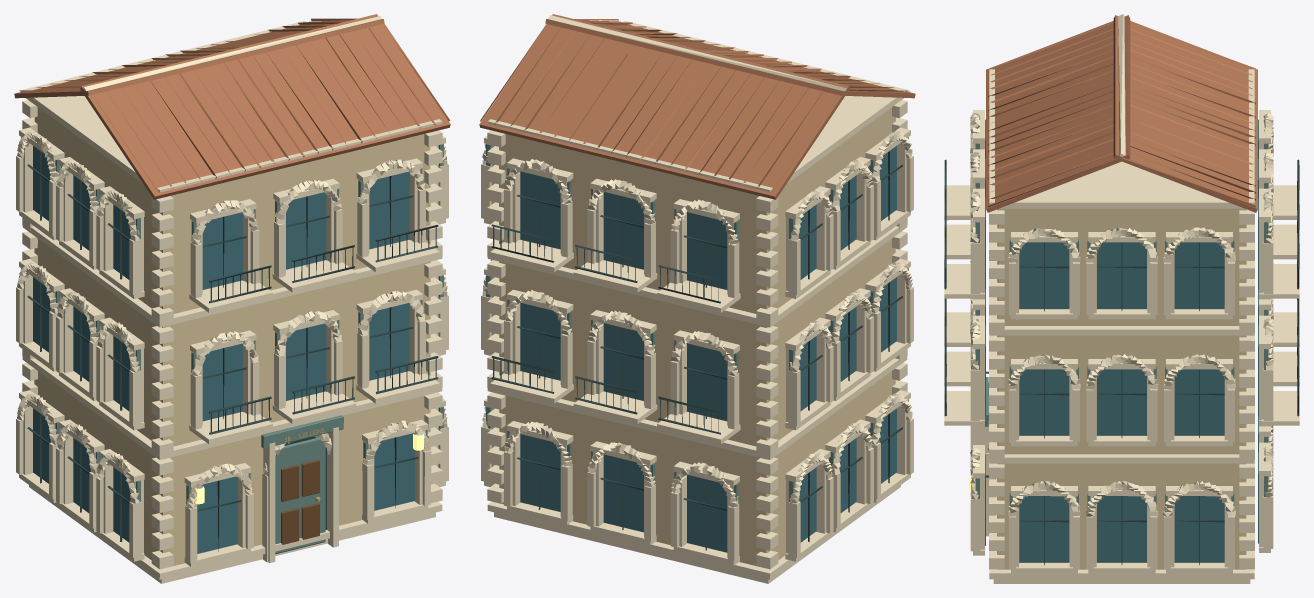
The model's file is espagne-3-lod.glb.
The picture shows the model from 3 angles, left to right: view 1: azimuth 30°, elevation 25°; view 2: azimuth 150°, elevation 25°; view 3: azimuth 270°, elevation 25°; orthographic projection. The views are drawn at different scales.
Parts seen in each view (by area): view 1: espagne-3_Dressed stone.001, espagne-3_Masonry plaster.001, espagne-3_Regional roof.001, espagne-3_Window blue.001, espagne-3_Forged midnight.001, espagne-3_Regional painted wood.001, espagne-3_Walnut.001; view 2: espagne-3_Dressed stone.001, espagne-3_Masonry plaster.001, espagne-3_Regional roof.001, espagne-3_Window blue.001, espagne-3_Forged midnight.001, espagne-3_Regional painted wood.001; view 3: espagne-3_Dressed stone.001, espagne-3_Regional roof.001, espagne-3_Window blue.001, espagne-3_Masonry plaster.001, espagne-3_Forged midnight.001, espagne-3_Regional painted wood.001.
Boxes of the visible parts, left/top/right/bottom form: espagne-3_Dressed stone.001: left=16, top=16, right=448, bottom=583; espagne-3_Masonry plaster.001: left=34, top=107, right=430, bottom=565; espagne-3_Regional roof.001: left=14, top=14, right=450, bottom=199; espagne-3_Window blue.001: left=33, top=146, right=414, bottom=553; espagne-3_Forged midnight.001: left=27, top=151, right=438, bottom=551; espagne-3_Regional painted wood.001: left=21, top=137, right=443, bottom=554; espagne-3_Walnut.001: left=281, top=459, right=319, bottom=544; espagne-3_Dressed stone.001: left=481, top=15, right=913, bottom=583; espagne-3_Masonry plaster.001: left=499, top=107, right=895, bottom=565; espagne-3_Regional roof.001: left=479, top=14, right=915, bottom=199; espagne-3_Window blue.001: left=520, top=146, right=896, bottom=552; espagne-3_Forged midnight.001: left=491, top=151, right=902, bottom=550; espagne-3_Regional painted wood.001: left=486, top=137, right=908, bottom=501; espagne-3_Dressed stone.001: left=944, top=14, right=1299, bottom=583; espagne-3_Regional roof.001: left=986, top=15, right=1257, bottom=212; espagne-3_Window blue.001: left=985, top=119, right=1258, bottom=562; espagne-3_Masonry plaster.001: left=997, top=208, right=1246, bottom=569; espagne-3_Forged midnight.001: left=944, top=159, right=1299, bottom=565; espagne-3_Regional painted wood.001: left=975, top=143, right=1268, bottom=506.
Bounding box in the file's own units: 14.19 × 19.22 × 14.22.
